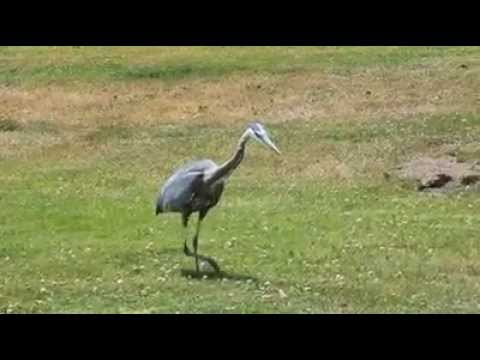heron: (155, 121, 282, 279)
